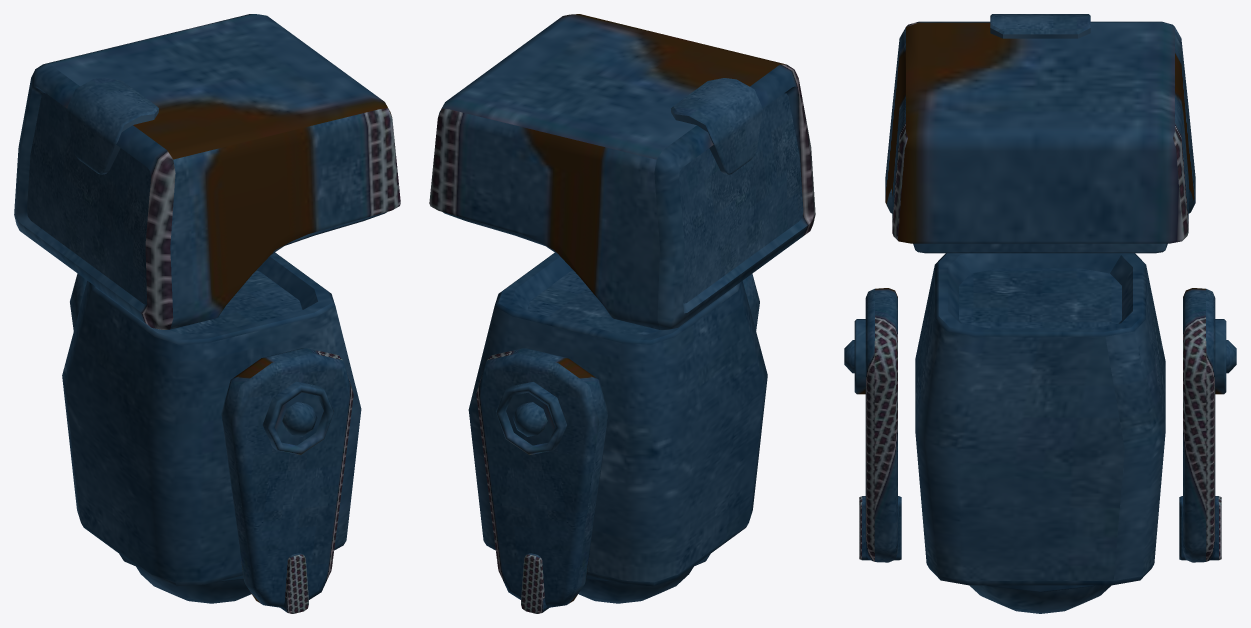
Rendered from robot_talking.gltf.
The picture shows the model from 3 angles, left to right: view 1: azimuth 30°, elevation 25°; view 2: azimuth 150°, elevation 25°; view 3: azimuth 270°, elevation 25°; orthographic projection. The views are drawn at different scales.
Visible parts, largest first — view 1: node_RobotGuide_Head_01, node_RobotGuide_01_Talking, node_RobotGuide_Arm_L_01; view 2: node_RobotGuide_Head_01, node_RobotGuide_01_Talking, node_RobotGuide_Arm_R_01; view 3: node_RobotGuide_01_Talking, node_RobotGuide_Head_01, node_RobotGuide_Arm_L_01, node_RobotGuide_Arm_R_01.
Boxes of the visible parts, x1,y1,x2,y2 form: node_RobotGuide_Head_01: (14,14,400,329); node_RobotGuide_01_Talking: (62,252,361,603); node_RobotGuide_Arm_L_01: (221,348,353,613); node_RobotGuide_Head_01: (429,14,815,330); node_RobotGuide_01_Talking: (468,252,767,603); node_RobotGuide_Arm_R_01: (476,348,608,613); node_RobotGuide_01_Talking: (915,253,1165,613); node_RobotGuide_Head_01: (885,14,1195,253); node_RobotGuide_Arm_L_01: (844,288,901,562); node_RobotGuide_Arm_R_01: (1179,288,1236,562).
Bounding box in the file's own units: 0.8593 × 1.68 × 1.11.
Materials: 1 (1 with a texture image).
